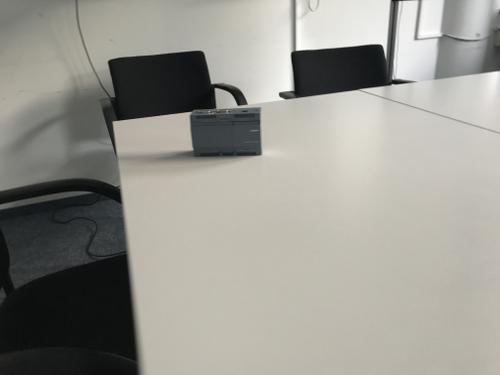device: (191, 108, 263, 158)
